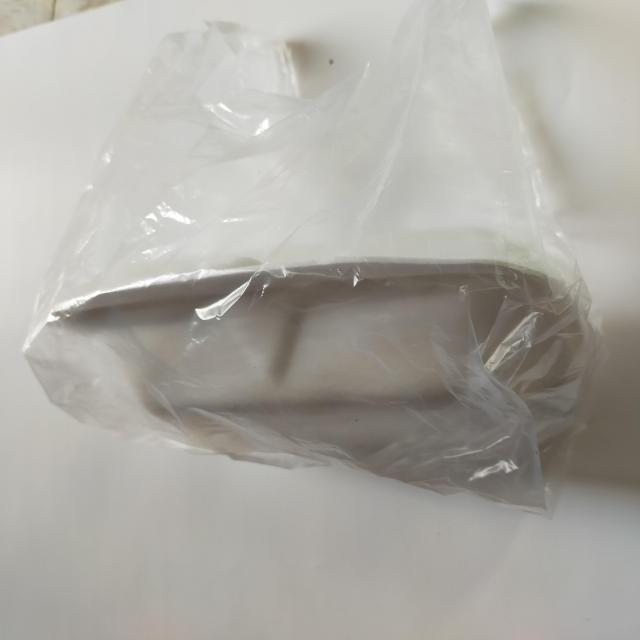styrofoam: (20, 1, 602, 519)
